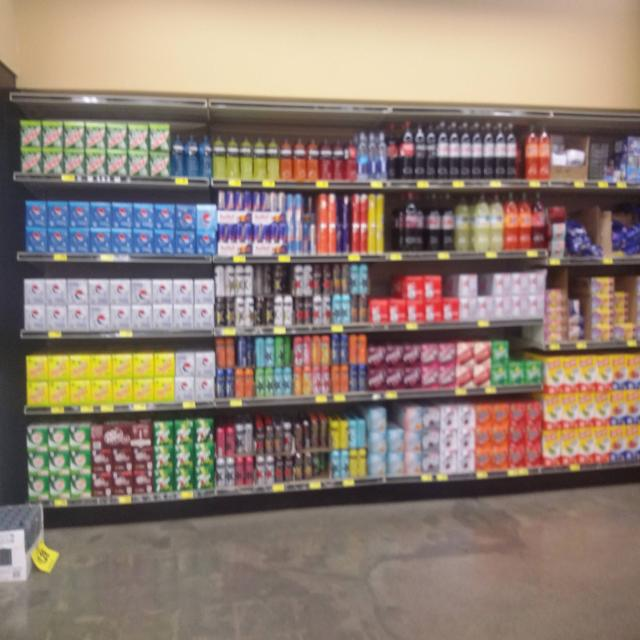empty: (385, 195, 407, 250)
